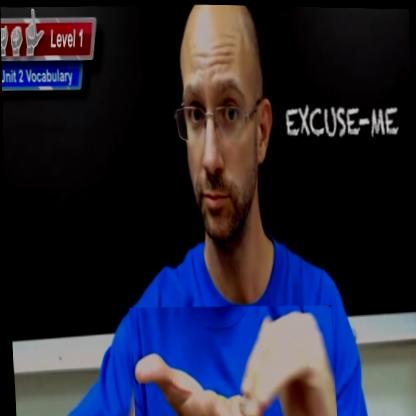ExcuseMe: (128, 300, 336, 416)
